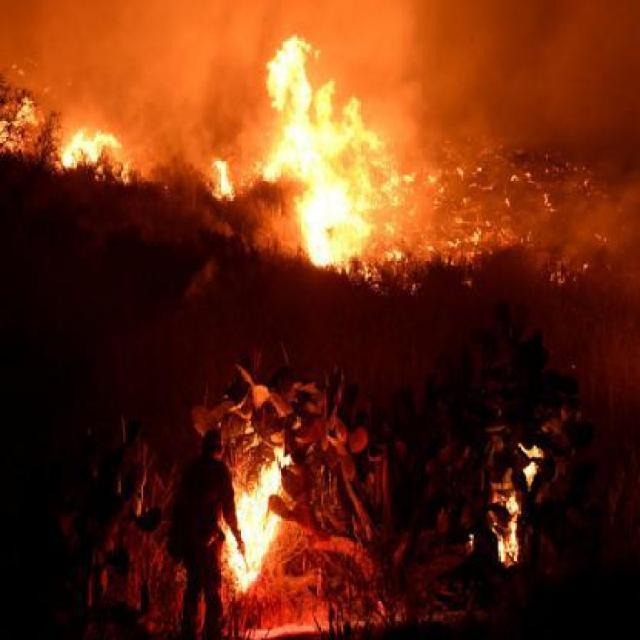Fire: (208, 33, 409, 275), (222, 420, 292, 603), (496, 413, 552, 590), (48, 119, 144, 192)
